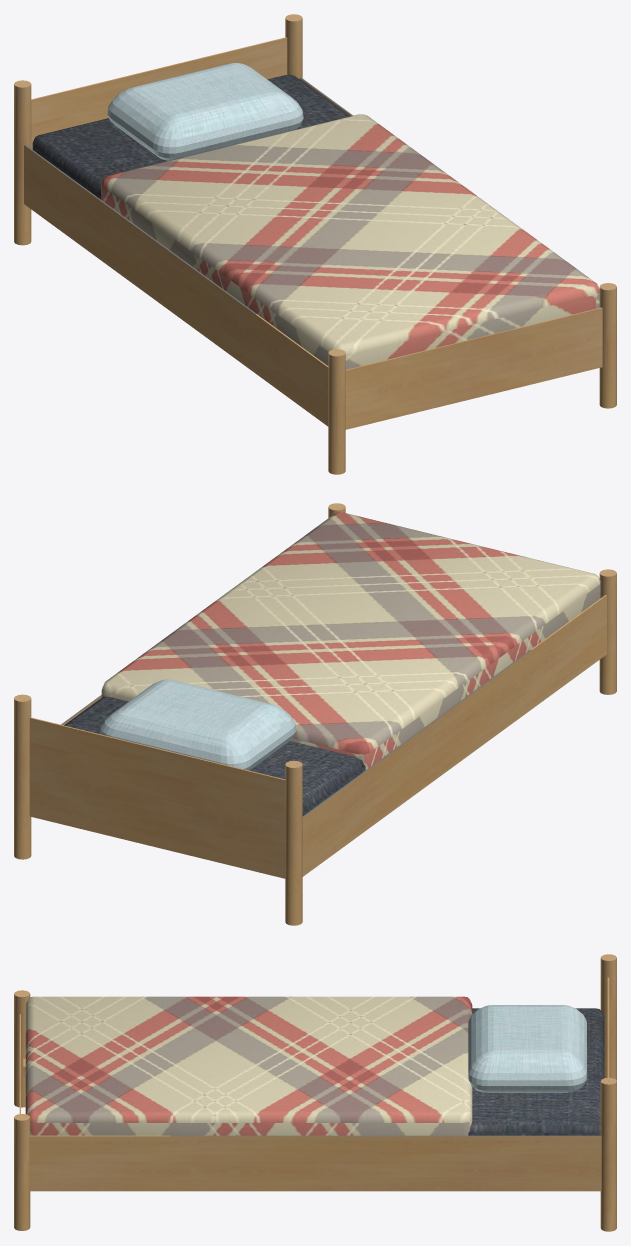
Rendered from bed 1-5.fbx.
3 views of the same model, one above another, from view 1: azimuth 30°, elevation 25°; view 2: azimuth 150°, elevation 25°; view 3: azimuth 270°, elevation 25° (orthographic). The views are drawn at different scales.
Visible parts, largest first — view 1: Cube_2, rechts, onder, Cube_1, Cube, boven, Cylinder_2, Cylinder, Cylinder_1, Cylinder_1_2; view 2: Cube_2, boven, rechts, Cube_1, Cube, Cylinder_2, Cylinder_1_2, Cylinder; view 3: Cube_2, linkz, Cube_1, Cube, Cylinder_1_2, Cylinder_1, Cylinder_2, Cylinder.
Boxes of the visible parts, x1,y1,x2,y2 form: Cube_2: [101, 114, 599, 369]; rechts: [24, 144, 328, 426]; onder: [345, 307, 602, 429]; Cube_1: [107, 63, 303, 160]; Cube: [32, 74, 349, 199]; boven: [31, 37, 287, 149]; Cylinder_2: [14, 80, 31, 245]; Cylinder: [328, 349, 345, 474]; Cylinder_1: [599, 283, 616, 408]; Cylinder_1_2: [285, 14, 302, 78]; Cube_2: [101, 512, 600, 769]; boven: [29, 717, 285, 878]; rechts: [302, 595, 606, 876]; Cube_1: [100, 679, 295, 770]; Cube: [64, 696, 365, 815]; Cylinder_2: [285, 760, 302, 925]; Cylinder_1_2: [14, 694, 31, 859]; Cylinder: [599, 569, 616, 694]; Cube_2: [25, 996, 472, 1135]; linkz: [29, 1135, 601, 1191]; Cube_1: [468, 1005, 586, 1092]; Cube: [468, 1008, 604, 1135]; Cylinder_1_2: [600, 1077, 616, 1231]; Cylinder_1: [14, 1114, 30, 1230]; Cylinder_2: [600, 954, 616, 1080]; Cylinder: [14, 990, 30, 1107].
Size of the model in its own units: 380 by 200 by 743.
1 material, 1 textured.
